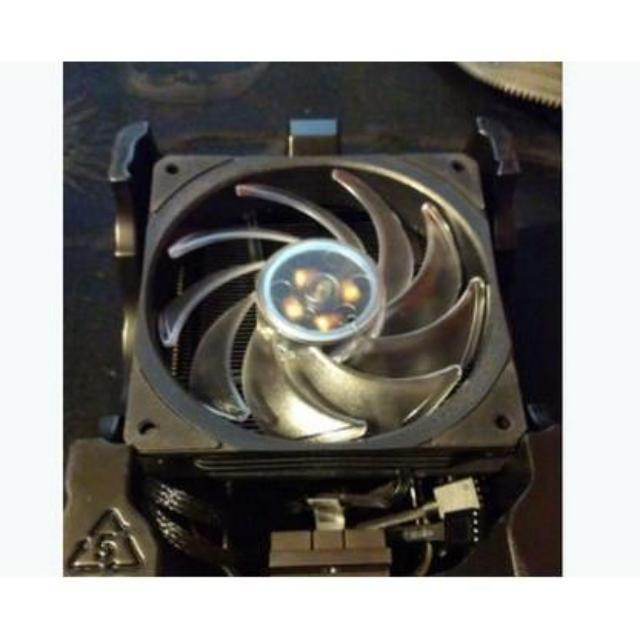CPU_Fan: (142, 162, 522, 468)
